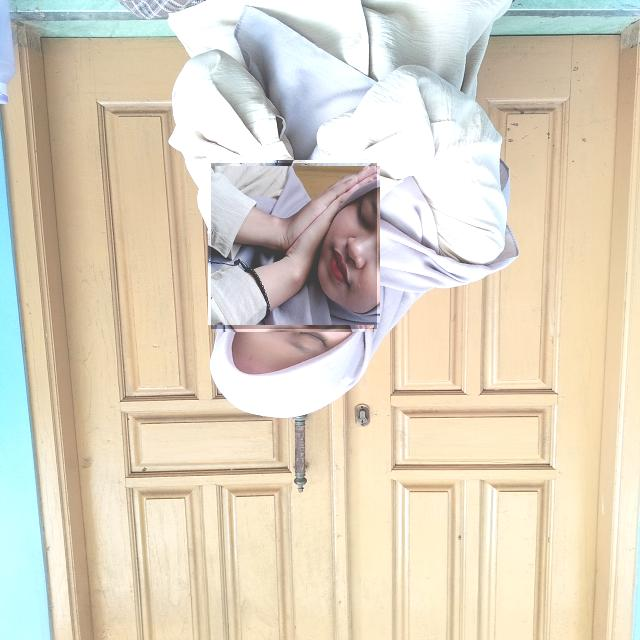tidur: (211, 163, 377, 329)
